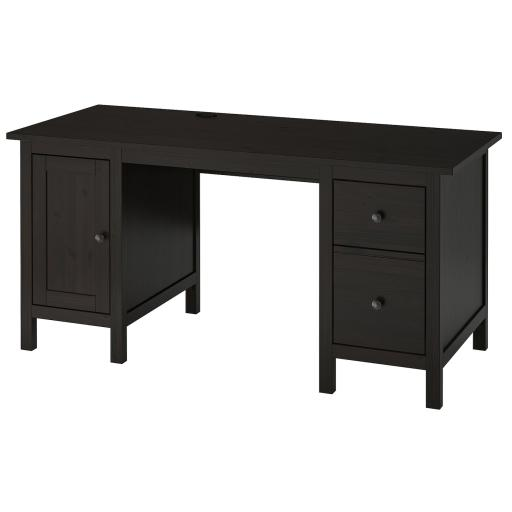desk: (6, 104, 502, 410)
